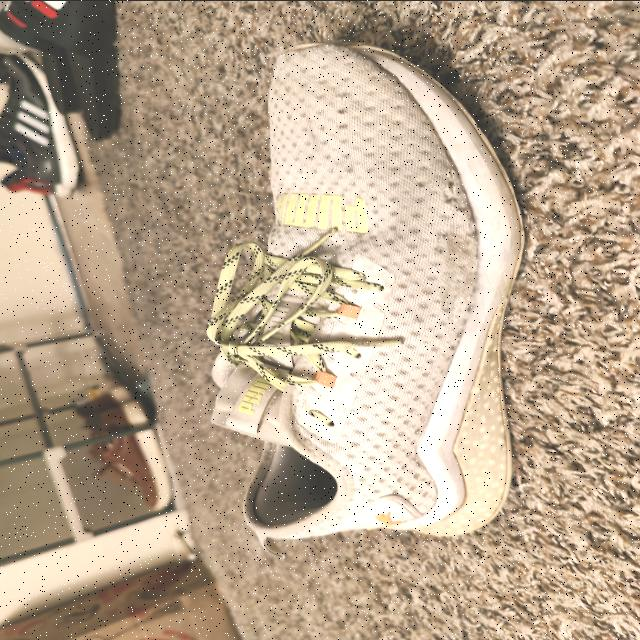white shoes: (255, 100, 476, 530)
